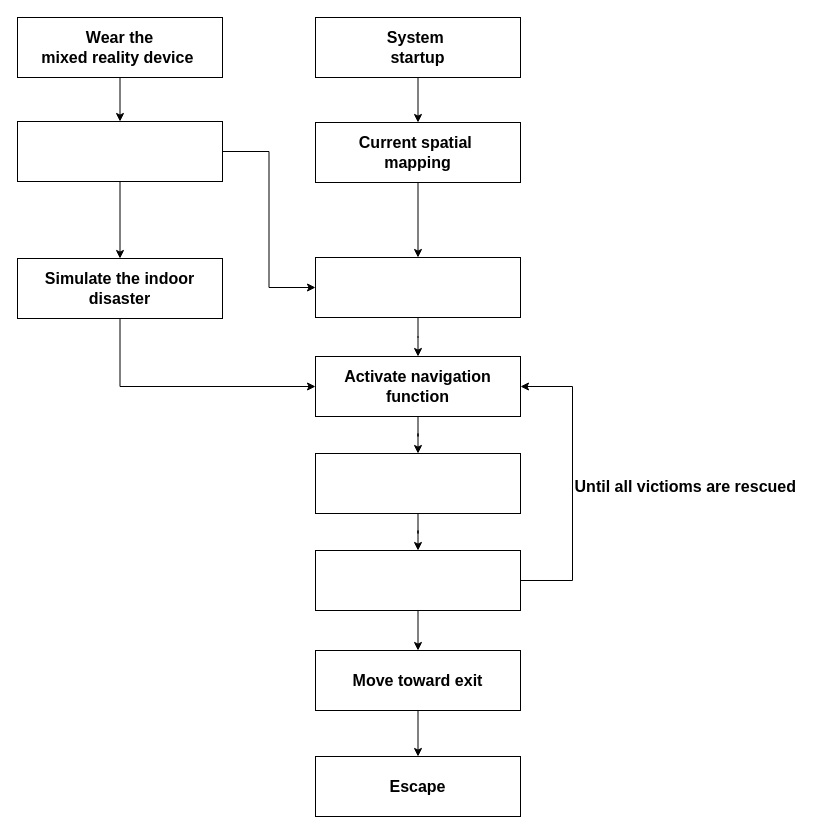
This 827x834 diagram has some shape labels left out. Here are the shapes that lost their labels. From the top down, the centre of each, then its label:
At point (119, 151): "Pre-mapping".
At point (417, 287): "Display user location on indoor map".
At point (417, 483): "Search for victims".
At point (417, 580): "Rescue victims".
